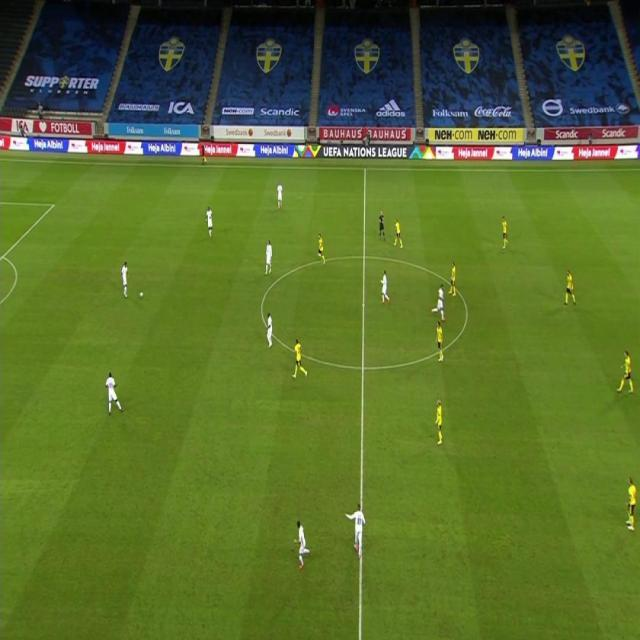ball: (139, 290, 145, 299)
player: (344, 503, 366, 559), (293, 520, 313, 572), (104, 369, 126, 415), (623, 476, 637, 533), (618, 350, 635, 394), (291, 338, 307, 382), (430, 283, 447, 321), (433, 396, 445, 446), (564, 268, 577, 306), (433, 322, 445, 363), (447, 259, 459, 298), (380, 270, 391, 305), (392, 217, 404, 249), (500, 214, 510, 251), (120, 261, 129, 298), (316, 232, 326, 264), (266, 311, 274, 348), (205, 206, 214, 238), (265, 240, 273, 276), (276, 181, 284, 210)
referee: (378, 209, 386, 241), (201, 141, 208, 164)
